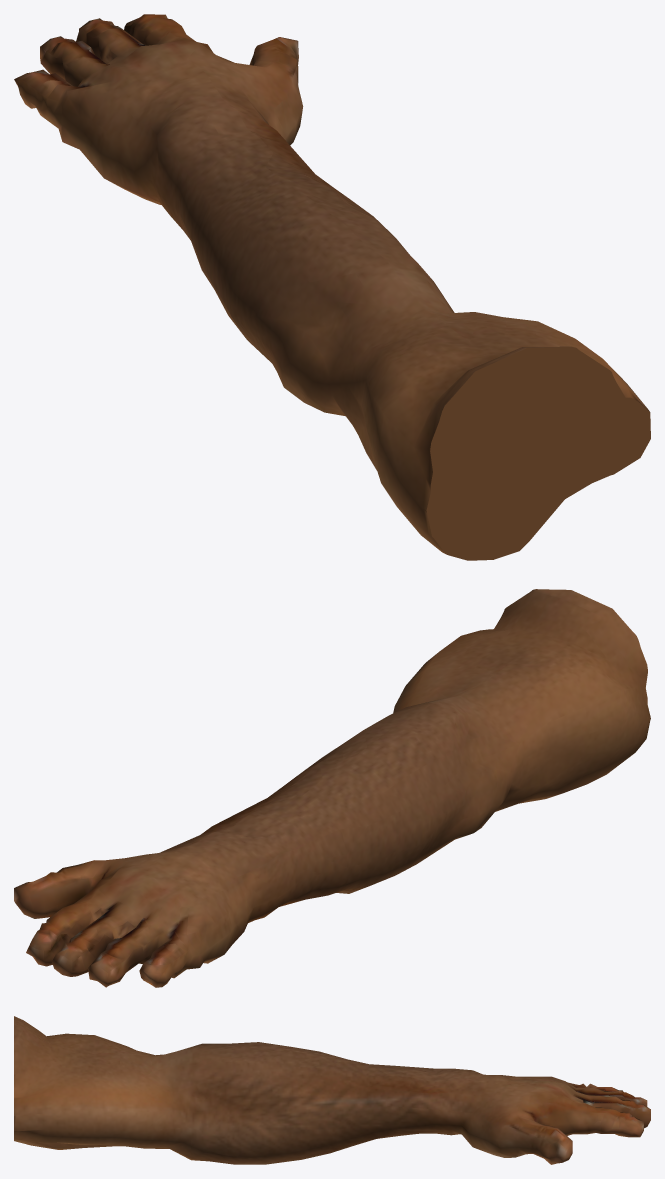
Rendered from pithecanthropus-tangan.glb.
The picture shows the model from 3 angles, top to bottom: view 1: azimuth 30°, elevation 25°; view 2: azimuth 150°, elevation 25°; view 3: azimuth 270°, elevation 25°; orthographic projection. The views are drawn at different scales.
Visible parts, largest first — view 1: Tangan; view 2: Tangan; view 3: Tangan.
Boxes of the visible parts, box(x1,y1,x2,y2) form: Tangan: box(14, 14, 650, 560); Tangan: box(14, 589, 650, 987); Tangan: box(14, 1016, 650, 1164).
Bounding box in the file's own units: 0.1289 × 0.0763 × 0.349.
1 material, 1 textured.
